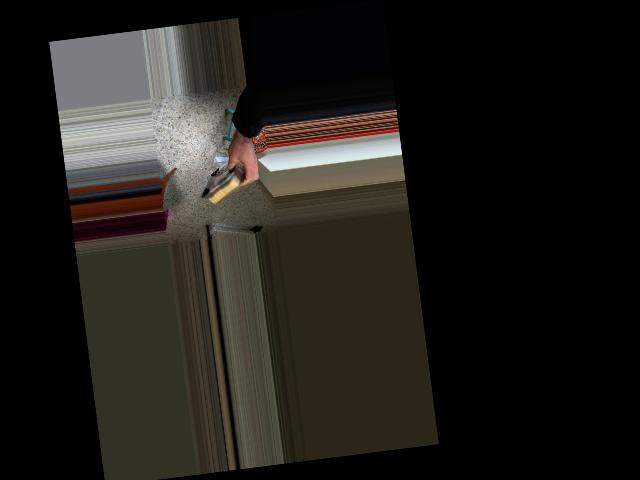cheese: (187, 146, 270, 215)
